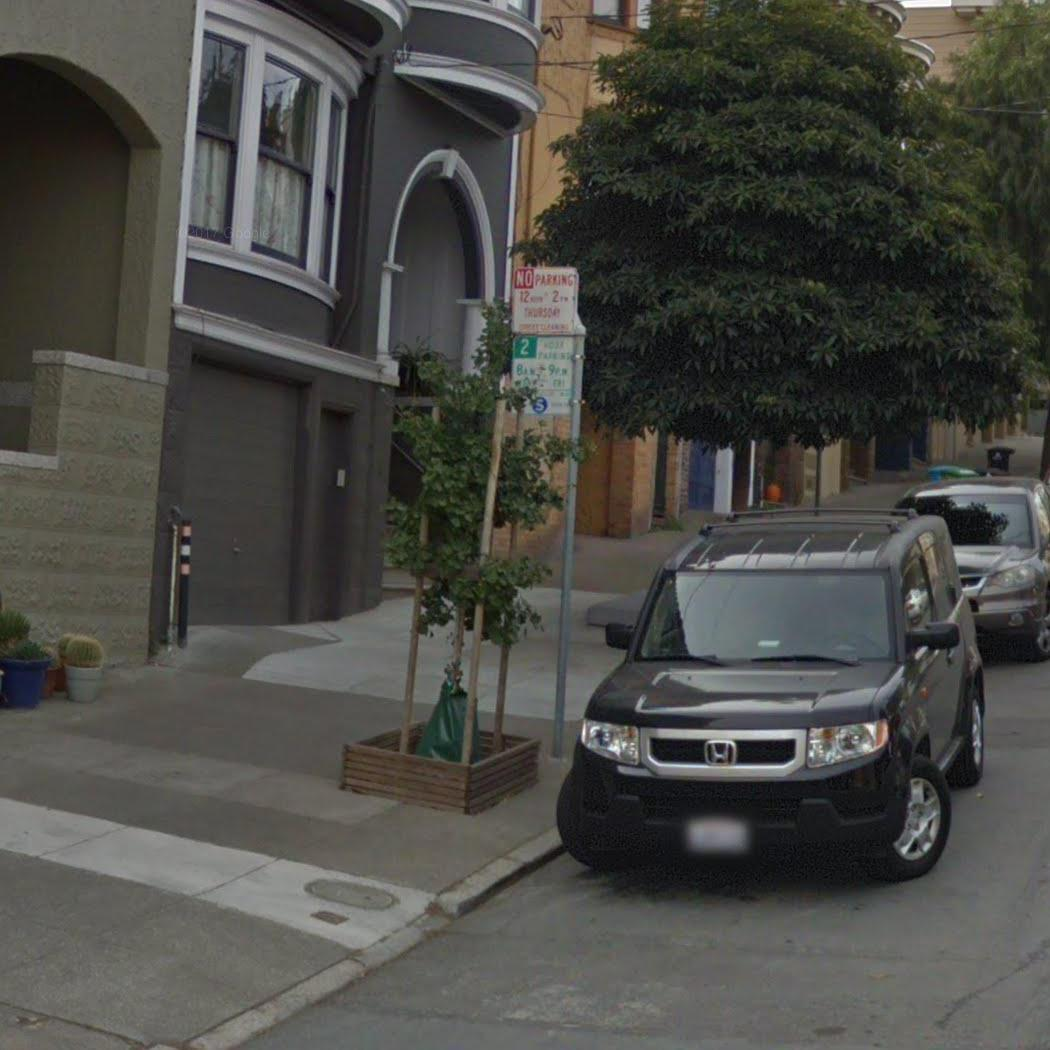2 Hour Parking: (507, 331, 586, 418)
No Parking: (508, 263, 583, 338)
